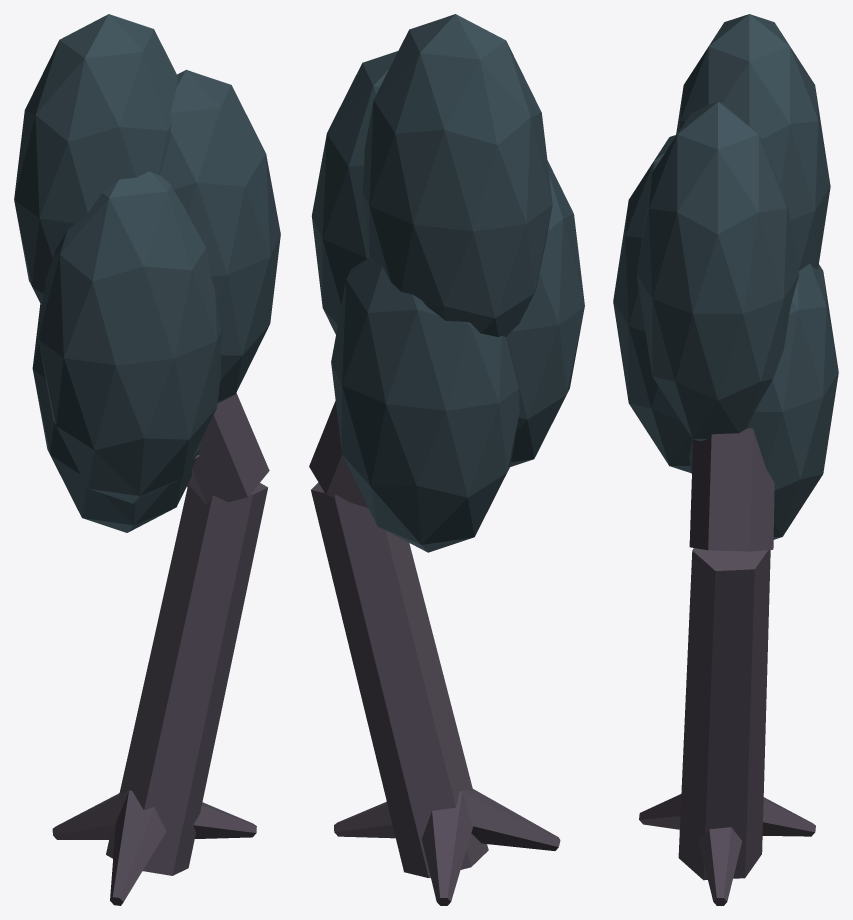
Rendered from map-boundaries-v5__grave_05.glb.
3 renders of one model, left to right at view 1: azimuth 30°, elevation 25°; view 2: azimuth 150°, elevation 25°; view 3: azimuth 270°, elevation 25°, orthographic. The views are drawn at different scales.
Visible parts, largest first — view 1: grave_05; view 2: grave_05; view 3: grave_05.
Boxes of the visible parts, left/top/right/bottom form: grave_05: left=14, top=14, right=280, bottom=905; grave_05: left=309, top=14, right=584, bottom=905; grave_05: left=613, top=14, right=838, bottom=905.
Bounding box in the file's own units: 0.9301 × 3.3 × 0.8055.
